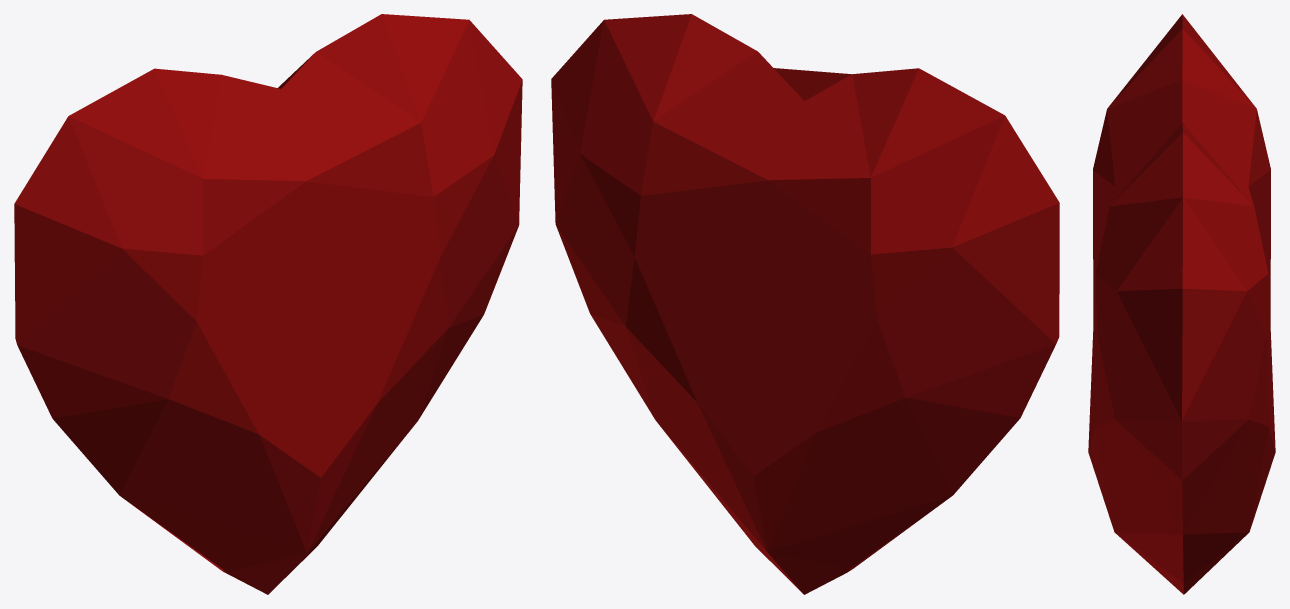
File: ruby_heart_gem.glb
3 renders of one model, left to right at view 1: azimuth 30°, elevation 25°; view 2: azimuth 150°, elevation 25°; view 3: azimuth 270°, elevation 25°, orthographic. The views are drawn at different scales.
Bounding box in the file's own units: 1.87 × 1.95 × 0.6422.
1 material, 1 textured.
